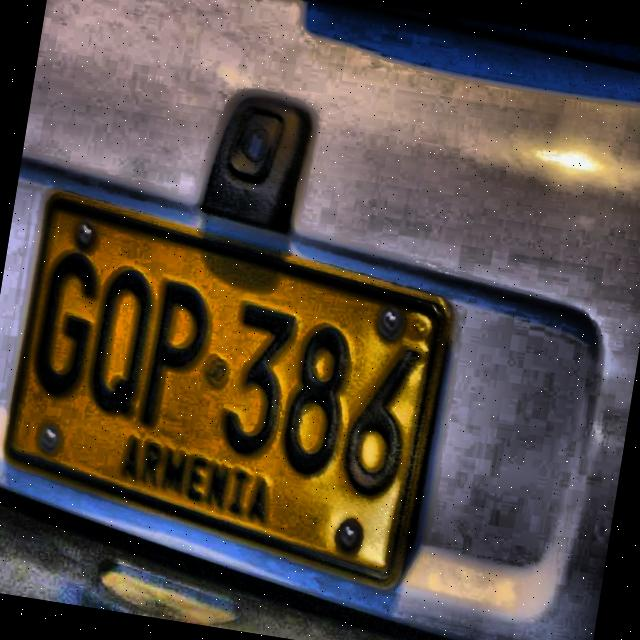3: (209, 294, 307, 470)
6: (333, 327, 430, 511)
8: (275, 314, 369, 493)
G: (24, 243, 113, 408)
P: (136, 269, 229, 440)
Q: (79, 256, 166, 427)
